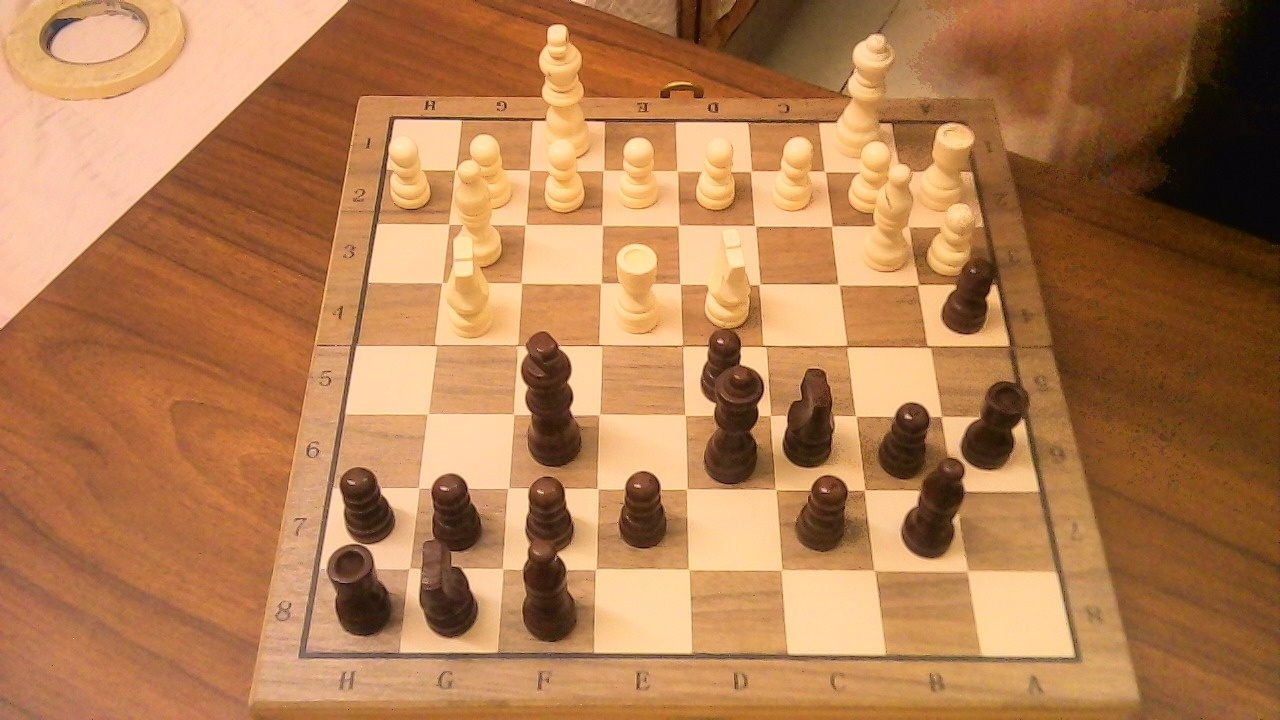B: (857, 153, 923, 277), (448, 148, 513, 271)
K: (534, 13, 598, 162)
N: (698, 228, 758, 318), (440, 256, 500, 342)
P: (841, 135, 909, 219), (764, 127, 823, 216), (458, 126, 518, 213), (923, 194, 983, 279), (535, 129, 592, 217), (610, 128, 666, 214), (688, 128, 744, 214), (382, 129, 437, 211)
Q: (828, 20, 901, 164)
R: (917, 111, 984, 217), (606, 232, 669, 340)
b: (897, 445, 979, 564), (508, 539, 588, 645)
k: (517, 322, 594, 469)
n: (411, 529, 491, 641), (778, 354, 850, 470)
p: (936, 247, 1007, 338), (421, 461, 492, 552), (873, 389, 942, 482), (692, 317, 754, 408), (335, 468, 395, 545), (618, 470, 668, 550), (522, 477, 576, 550), (803, 475, 853, 550)
q: (697, 353, 775, 487)
r: (324, 533, 402, 639), (957, 369, 1038, 471)
